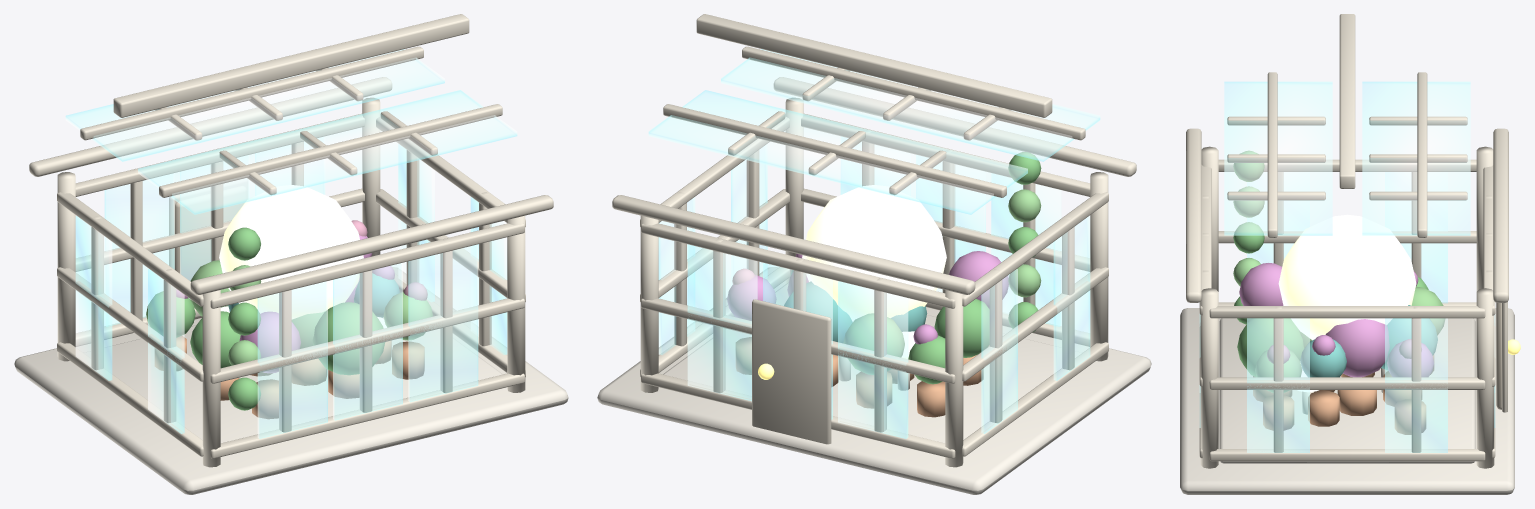
The model's file is cozy_greenhouse_A.glb.
The picture shows the model from 3 angles, left to right: view 1: azimuth 30°, elevation 25°; view 2: azimuth 150°, elevation 25°; view 3: azimuth 270°, elevation 25°; orthographic projection. The views are drawn at different scales.
Parts seen in each view (by area): view 1: Base, RoofGlassB, Floor, RoofGlassF, GlassB3, GlassB1, Glow, GlassB2, Ridge, EaveB, EaveF, GlassF1 (+50 smaller); view 2: Base, RoofGlassF, RoofGlassB, Glow, Floor, DoorF, GlassF1, GlassF3, Ridge, EaveF, GlassL1, EaveB (+44 smaller); view 3: Base, RoofGlassF, RoofGlassB, Floor, Glow, GlassR1, GlassR2, GlassL2, RailR0.95, RailR0.15, RailR0.55, Post1 (+43 smaller).
Part boxes in pixels (x1,y1,x2,y2): Base: (14,267,568,494); RoofGlassB: (138,90,517,214); Floor: (84,317,502,443); RoofGlassF: (65,49,444,161); GlassB3: (408,244,478,402); GlassB1: (257,281,327,438); Glow: (219,185,363,319); GlassB2: (333,263,402,420); Ridge: (113,14,469,117); EaveB: (190,195,553,294); EaveF: (29,77,391,176); GlassF1: (104,173,174,326); Base: (597,267,1151,494); RoofGlassF: (648,90,1027,214); RoofGlassB: (721,49,1100,161); Glow: (802,185,946,321); Floor: (663,282,1081,443); DoorF: (752,299,831,444); GlassF1: (838,281,908,438); GlassF3: (687,244,757,401); Ridge: (696,14,1052,117); EaveF: (612,195,975,294); GlassL1: (1053,216,1090,380); EaveB: (774,77,1136,176); Base: (1180,308,1514,494); RoofGlassF: (1362,81,1470,235); RoofGlassB: (1224,81,1332,235); Floor: (1219,318,1475,463); Glow: (1278,214,1416,340); GlassR1: (1247,318,1309,452); GlassR2: (1385,318,1447,452); GlassL2: (1385,172,1447,303); RailR0.95: (1209,306,1485,318); RailR0.15: (1209,449,1485,461); RailR0.55: (1209,377,1485,389); Post1: (1476,288,1494,468).
Size of the model in its own units: 2.15 by 1.76 by 1.73.
